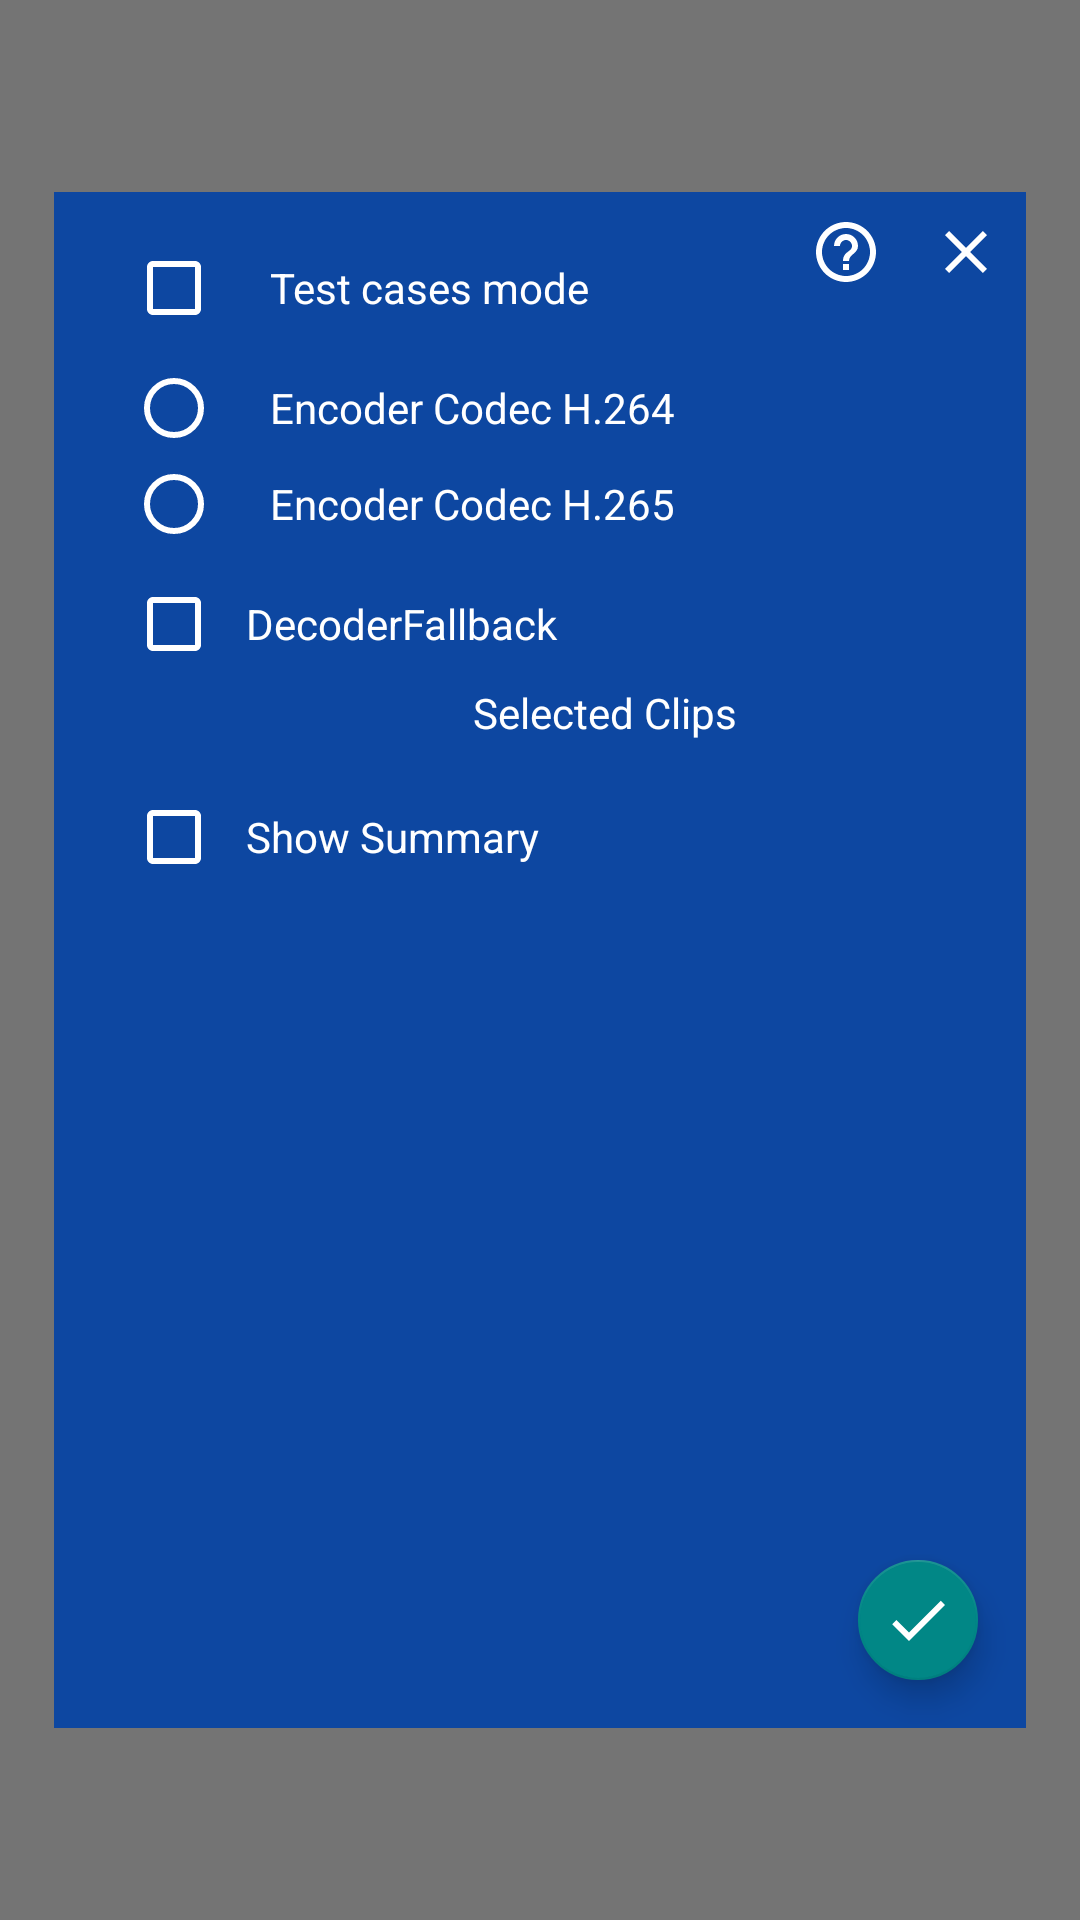

Icon bounding boxes for this 1080x1920 phone screenshot, format (x1, y1, x2, y2):
close: (945, 231, 987, 273)
done: (858, 1560, 978, 1680)
help: (816, 222, 876, 282)
